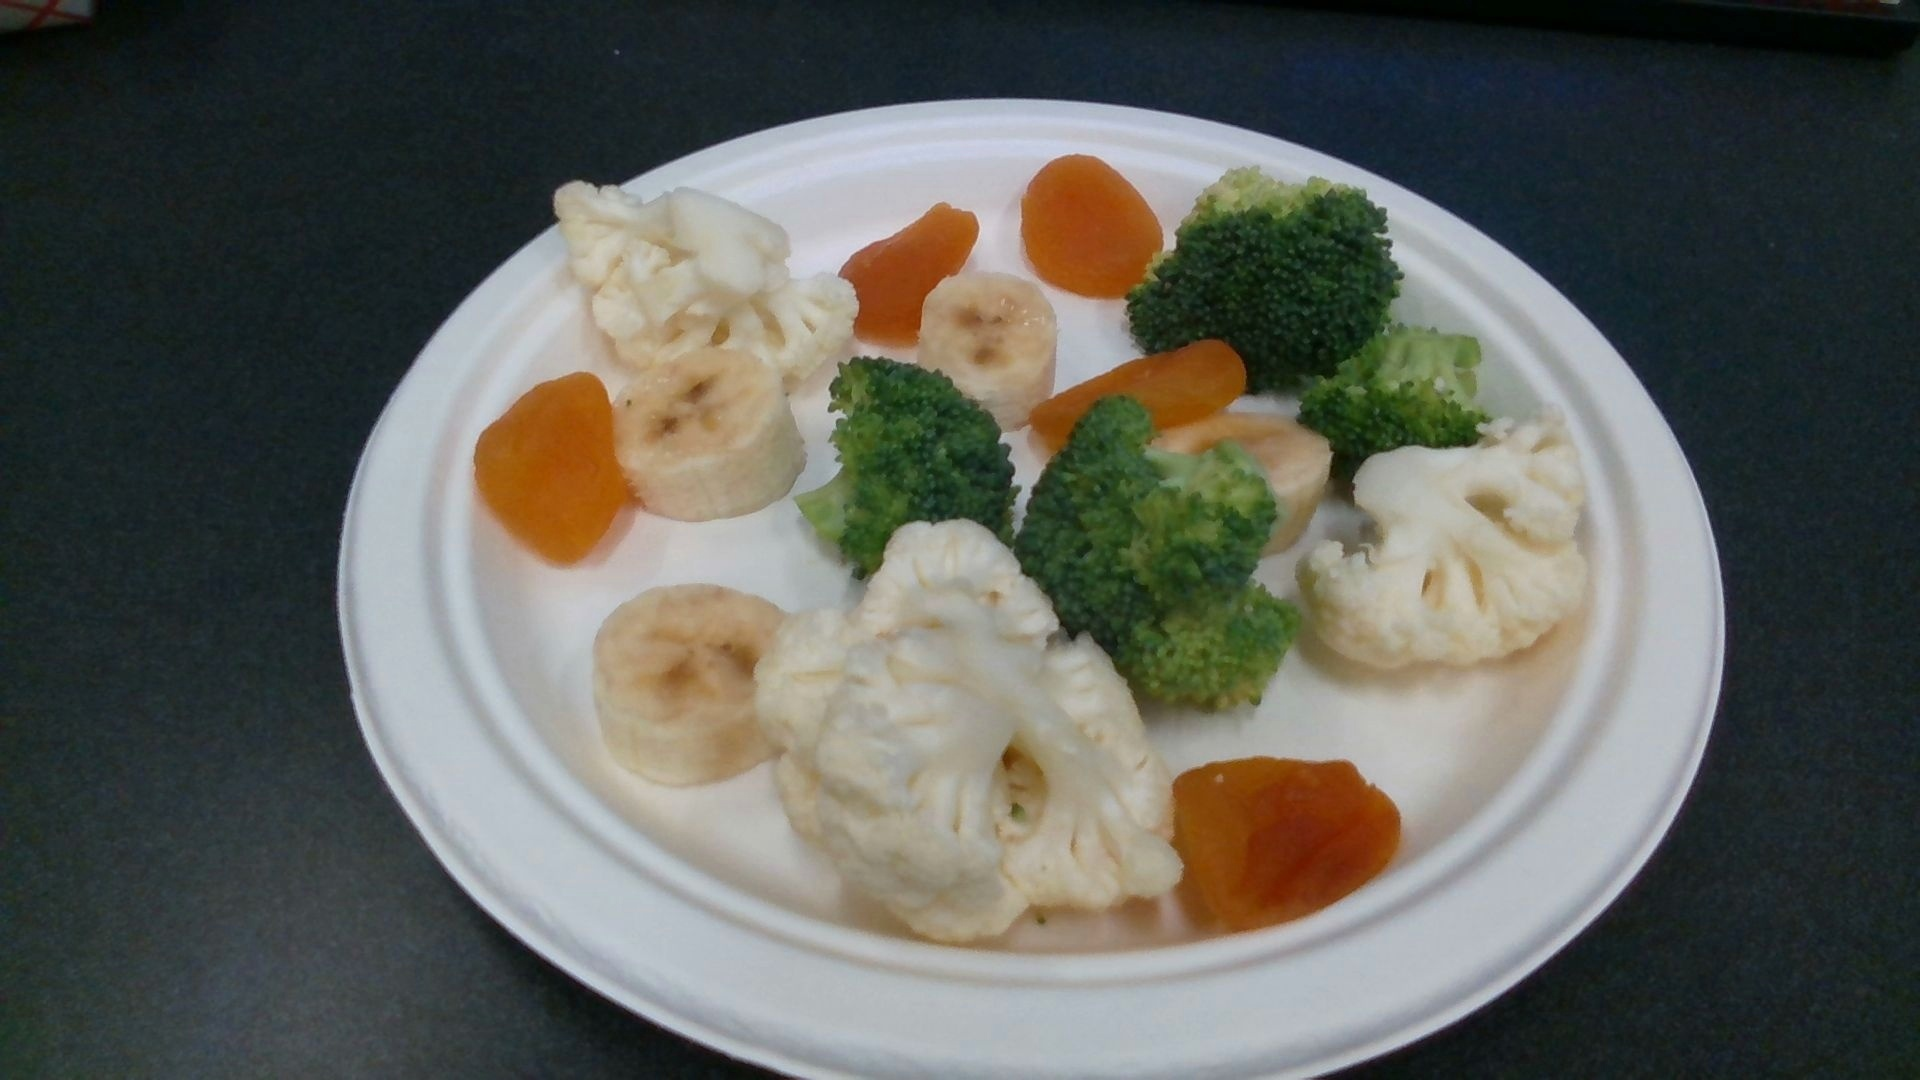apricot: (1175, 760, 1404, 934), (469, 373, 617, 566), (1030, 336, 1247, 448), (1025, 156, 1162, 295), (844, 206, 978, 331)
banana: (595, 583, 808, 781), (615, 345, 807, 516), (1139, 419, 1332, 553), (922, 272, 1058, 430)
broccoli: (1015, 400, 1302, 711), (1135, 167, 1402, 388), (800, 357, 1015, 571), (1300, 330, 1490, 483)
cauliflower: (756, 520, 1185, 943), (1294, 415, 1589, 669), (550, 178, 857, 365)
